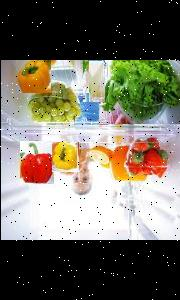Lechuga/Endivia: (98, 60, 180, 123)
Pimiento: (19, 140, 53, 183), (15, 60, 50, 93), (51, 142, 78, 172)
Queso: (81, 60, 103, 102)
